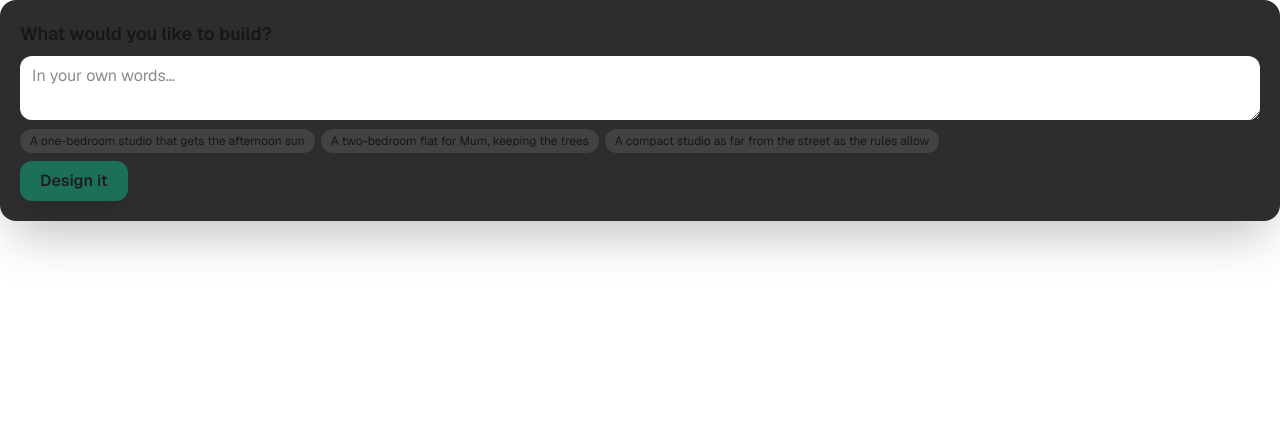
revising a design › offers a change only once a design has an accepted attempt
Step 1. Type "A small studio." into the text box labelled "What would you like to build?" → (640, 88), box top-left (20, 56), bottom-right (1260, 120)
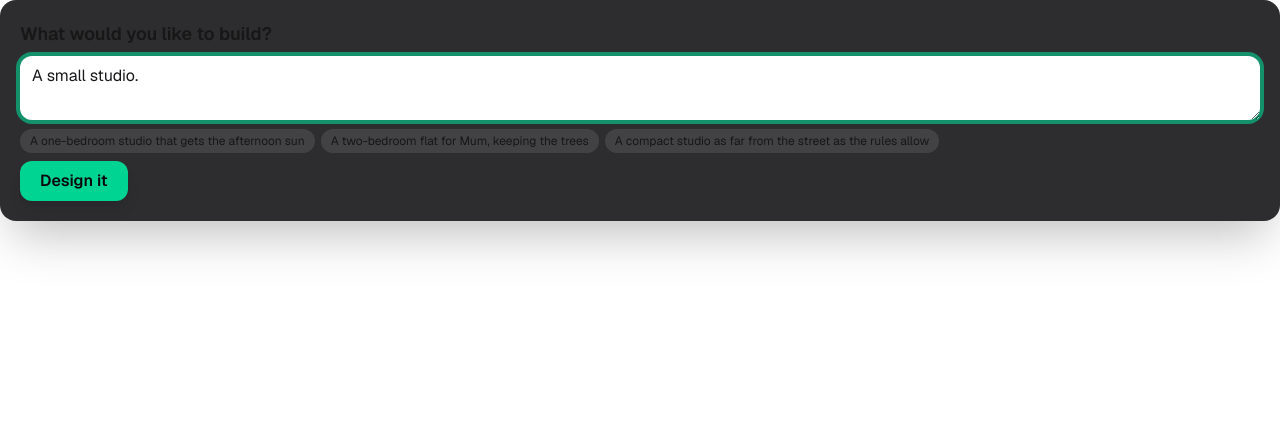
Step 2. Click the button "Design it" → (74, 181), box top-left (20, 161), bottom-right (128, 201)
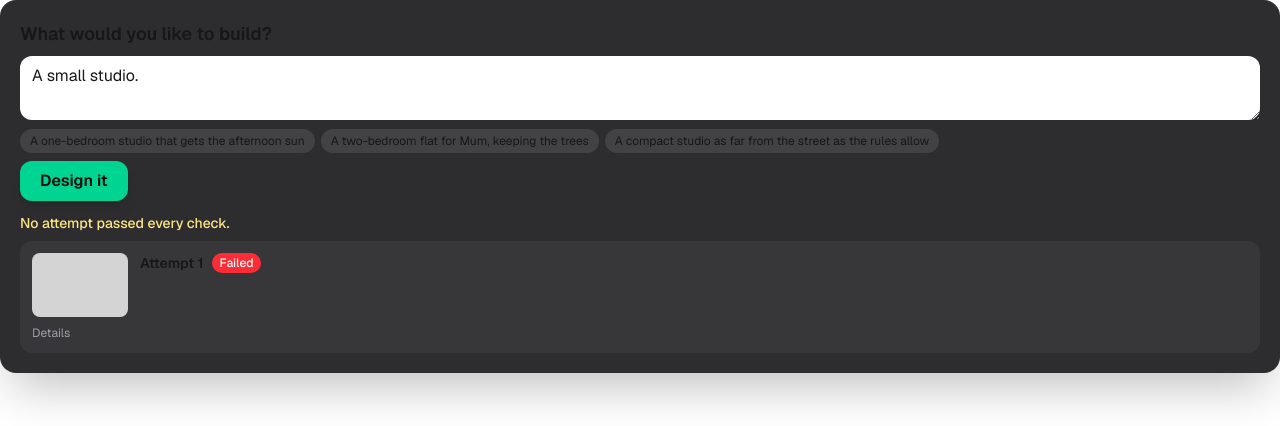
Expected: the text "No attempt passed every check." is shown, top-left (20, 214), bottom-right (230, 232)
